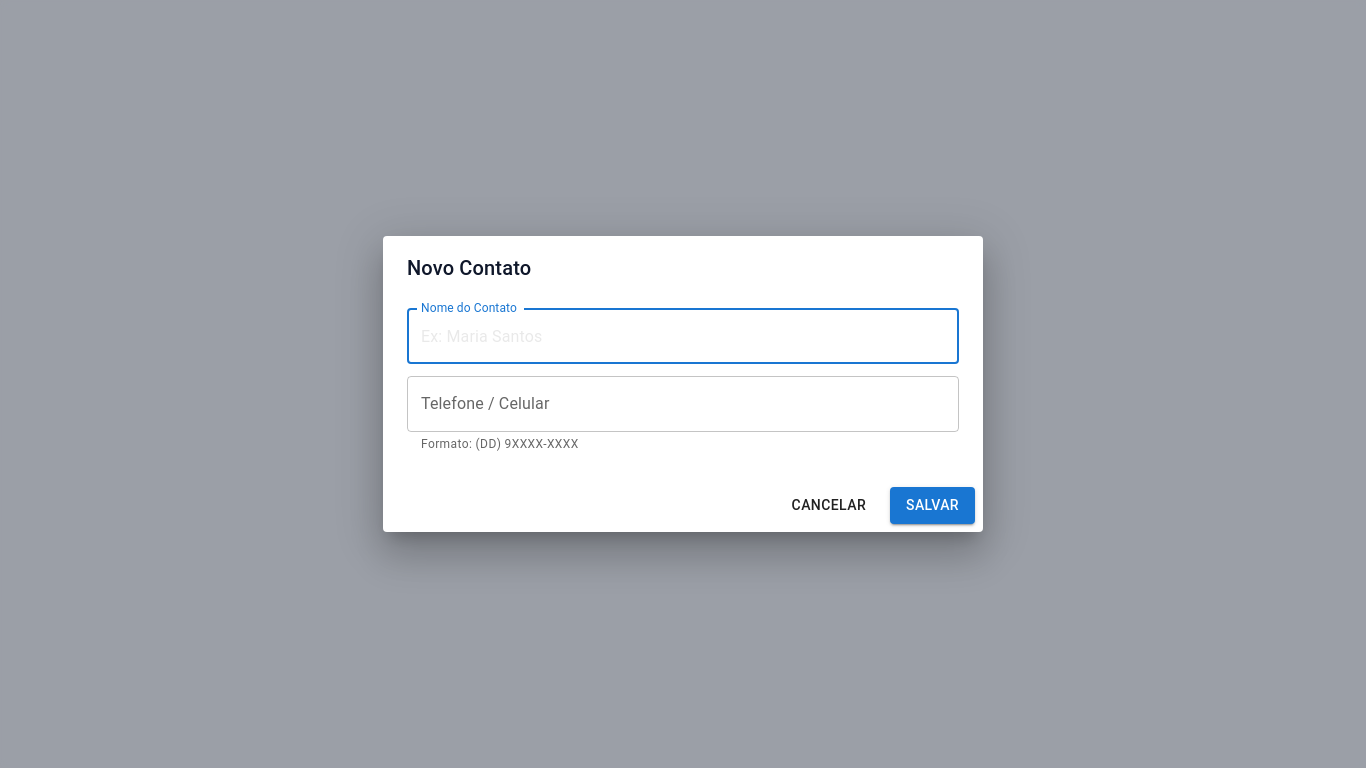
Test: ContactDialog › deve validar nome com menos de 2 caracteres
The image size is (1366, 768).
Type "A" into the field labelled "Nome do Contato" at (683, 336), box [407, 308, 959, 364]
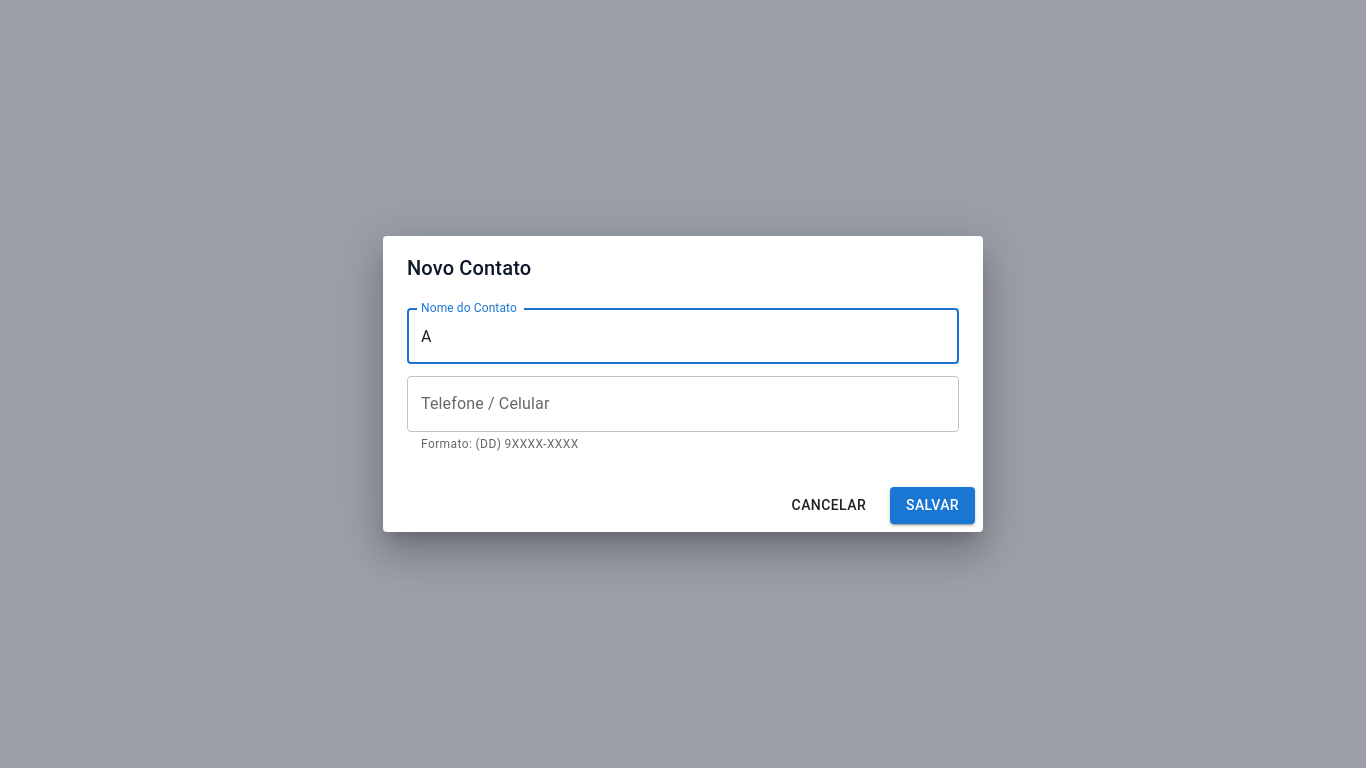
Type "11999998888" into the field labelled "Telefone / Celular" at (683, 404), box [407, 376, 959, 432]
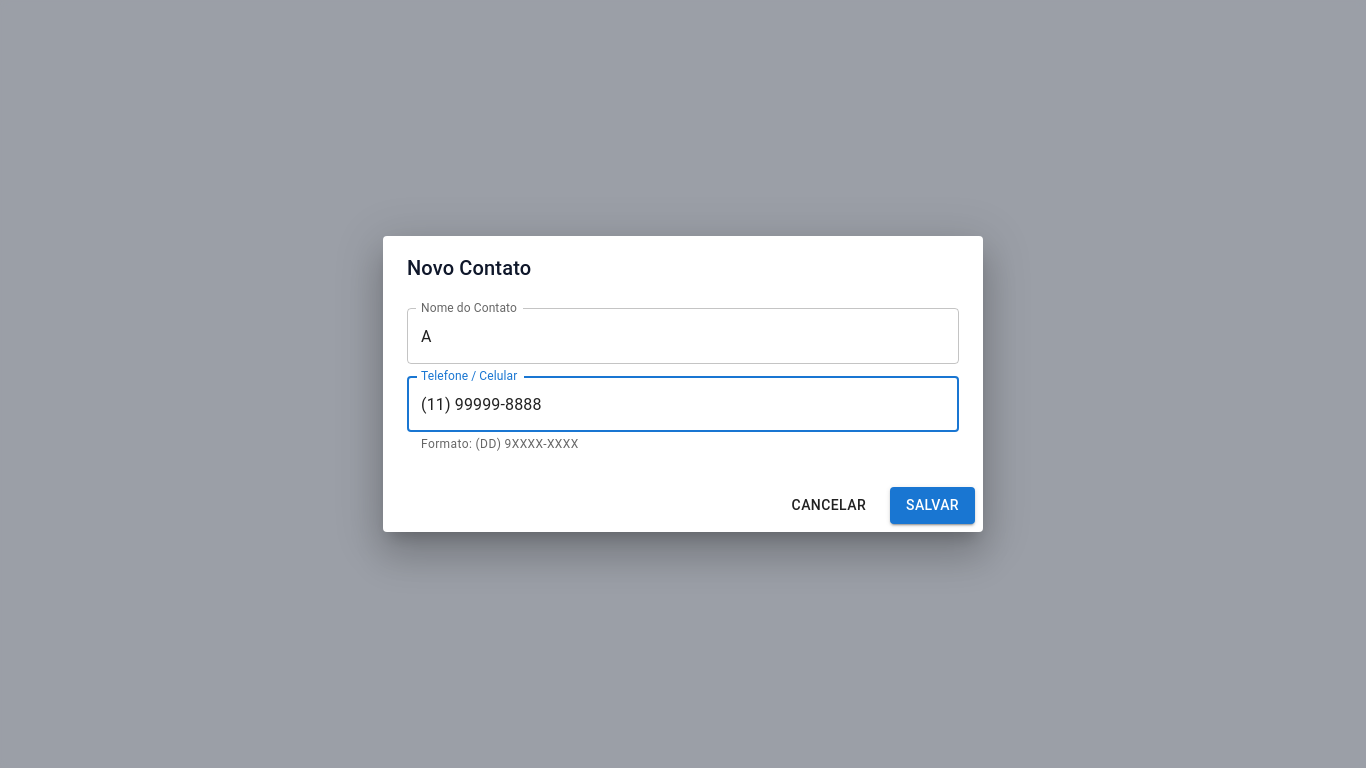
Click the button "Salvar" at (932, 505), box [890, 487, 975, 524]
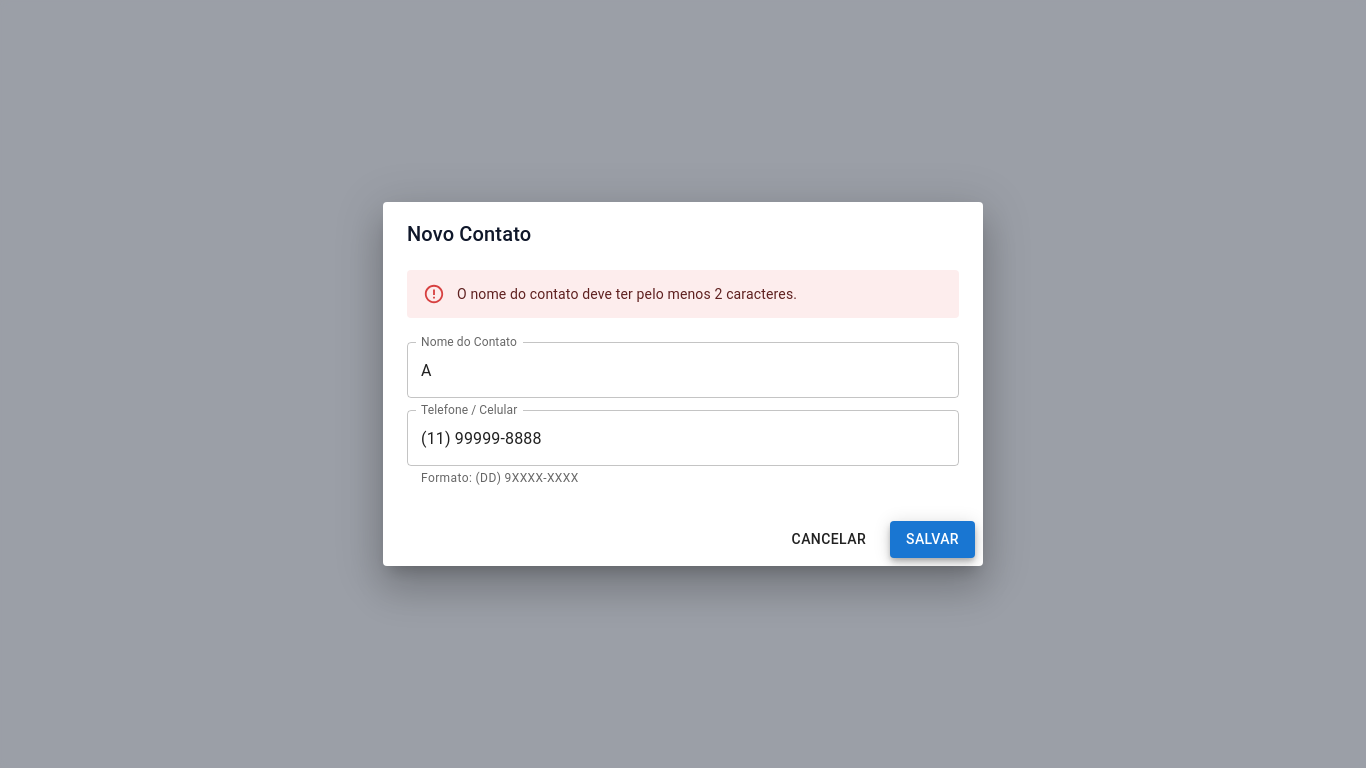
Result: the text "O nome do contato deve ter pelo menos 2 caracteres." is shown at [457, 286, 797, 302]
